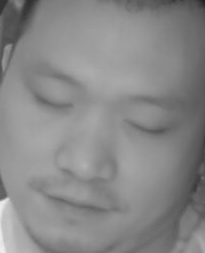blink: (25, 83, 76, 116), (118, 113, 169, 141)
mouth: (35, 180, 122, 222)
